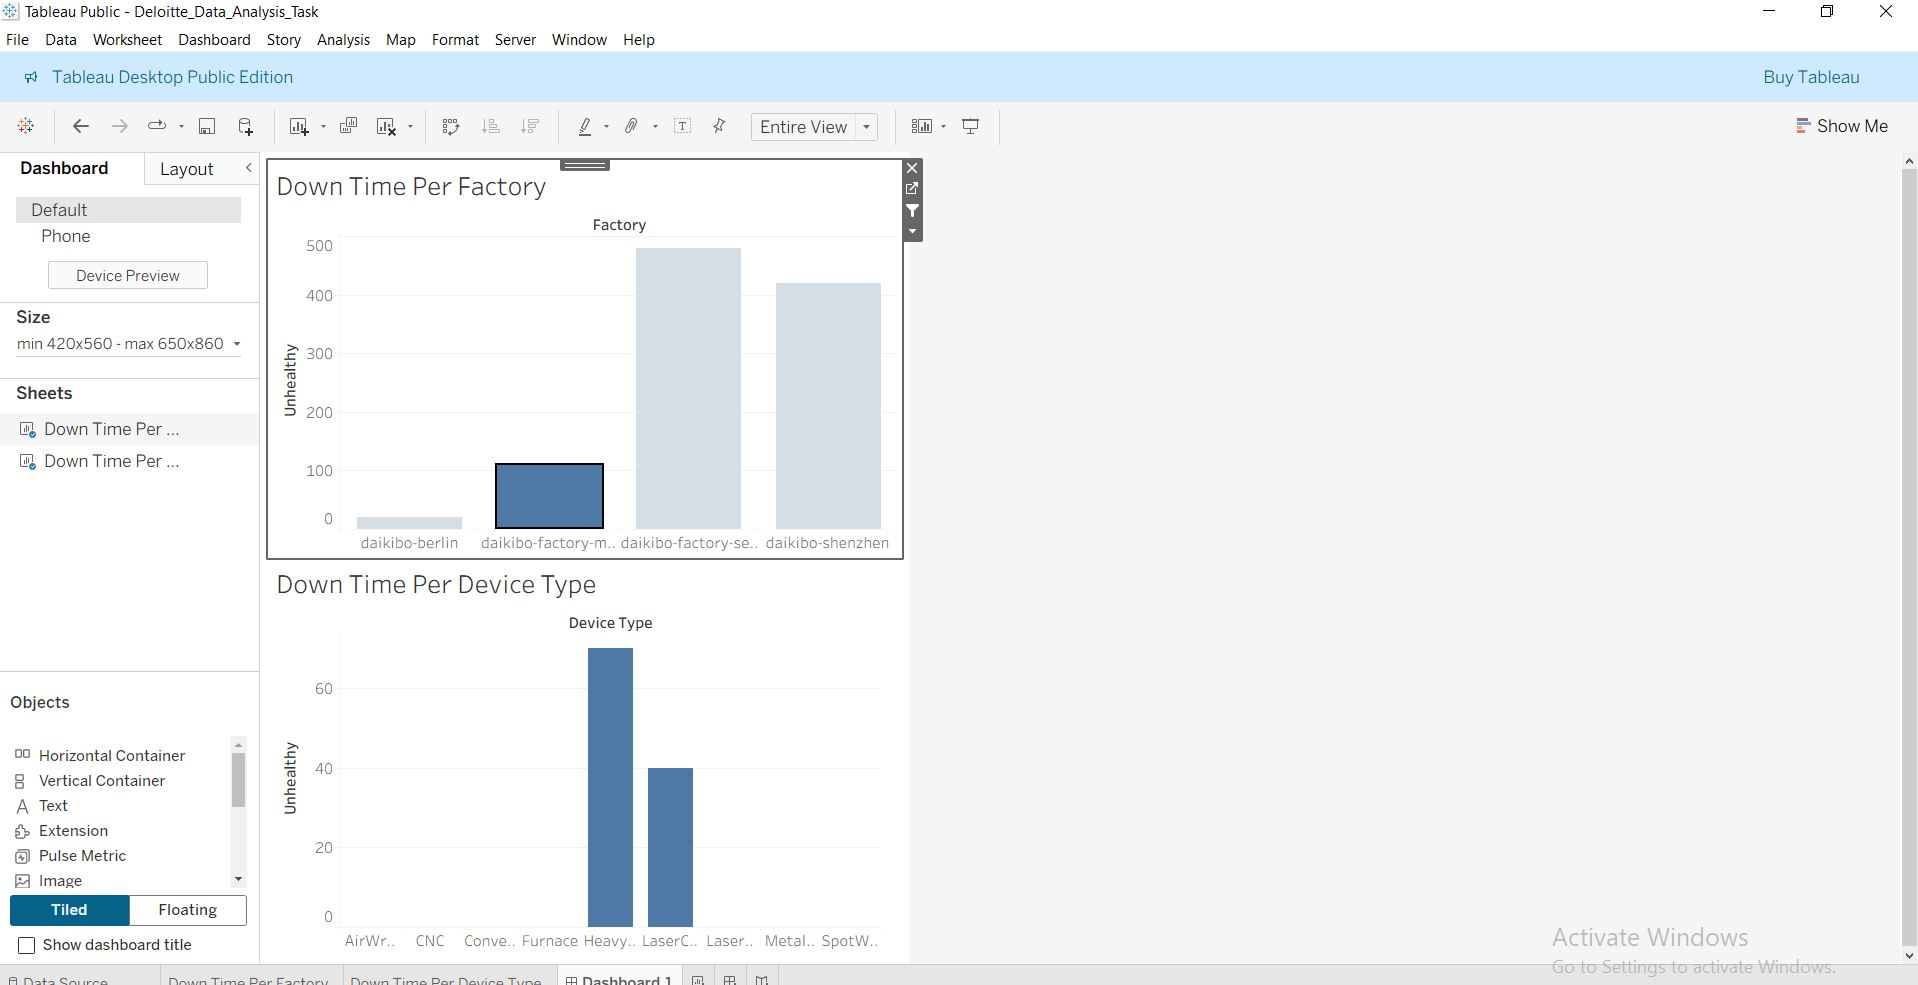

The page's visual inventory and layout, read from the dashboard file:
{"tool":"tableau","page":{"name":"Dashboard 1","canvas":[650,860],"ordinal":0},"visuals":[{"type":"worksheet","title":"Down Time Per Factory","mark":"Automatic","rows":["Calculation_1095701150711808"],"cols":["factory"],"box":[8,8.5,634,421.5]},{"type":"worksheet","title":"Down Time Per Device Type","mark":"Bar","rows":["Calculation_1095701150711808"],"cols":["deviceType"],"box":[8,430,634,421.5]}]}

Visuals, with their boxes on the page's 650x860 design canvas (x1, y1, x2, y2). These are canvas units, not pixel positions in the 1918x985 screenshot, which may show the page scaled, cropped or inside an application window:
"Down Time Per Factory" worksheet: detection(8, 8, 642, 430)
"Down Time Per Device Type" worksheet (Bar marks): detection(8, 430, 642, 852)
